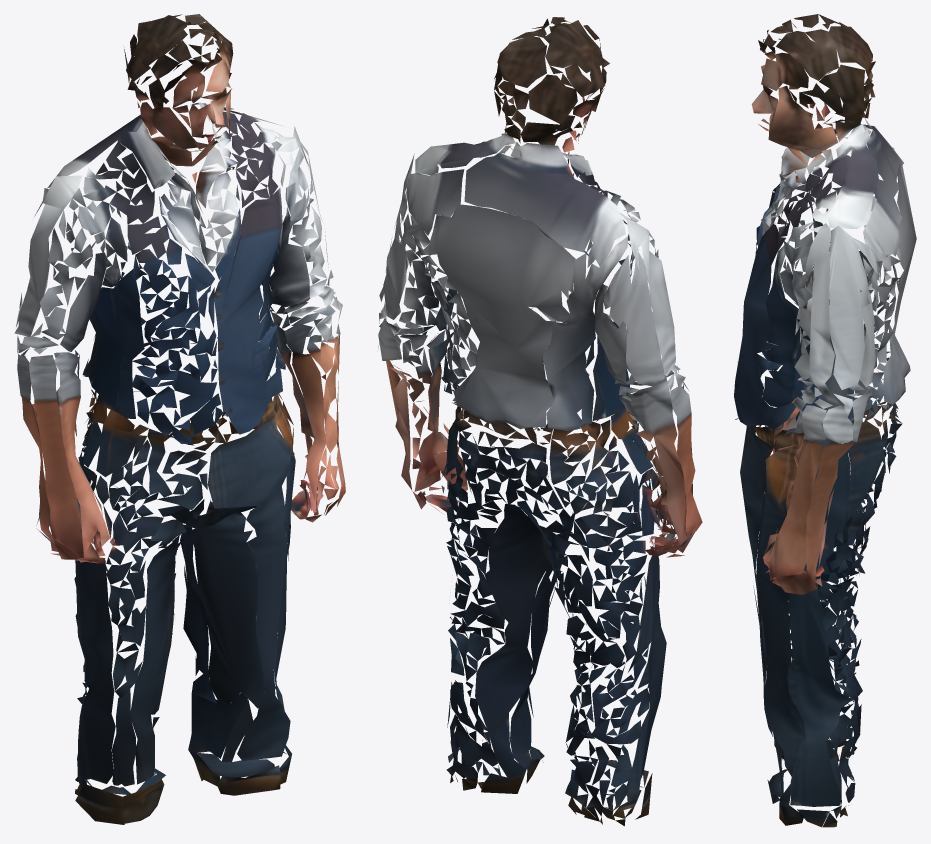
Rendered from char_worker.glb.
The picture shows the model from 3 angles, left to right: view 1: azimuth 30°, elevation 25°; view 2: azimuth 150°, elevation 25°; view 3: azimuth 270°, elevation 25°; orthographic projection.
Visible parts, largest first — view 1: geometry_0; view 2: geometry_0; view 3: geometry_0.
Boxes of the visible parts, bbox=[...] form: geometry_0: bbox=[14, 14, 345, 824]; geometry_0: bbox=[378, 17, 702, 826]; geometry_0: bbox=[734, 14, 916, 827].
Bounding box in the file's own units: 0.7555 × 1.81 × 0.3962.
1 material, 1 textured.
